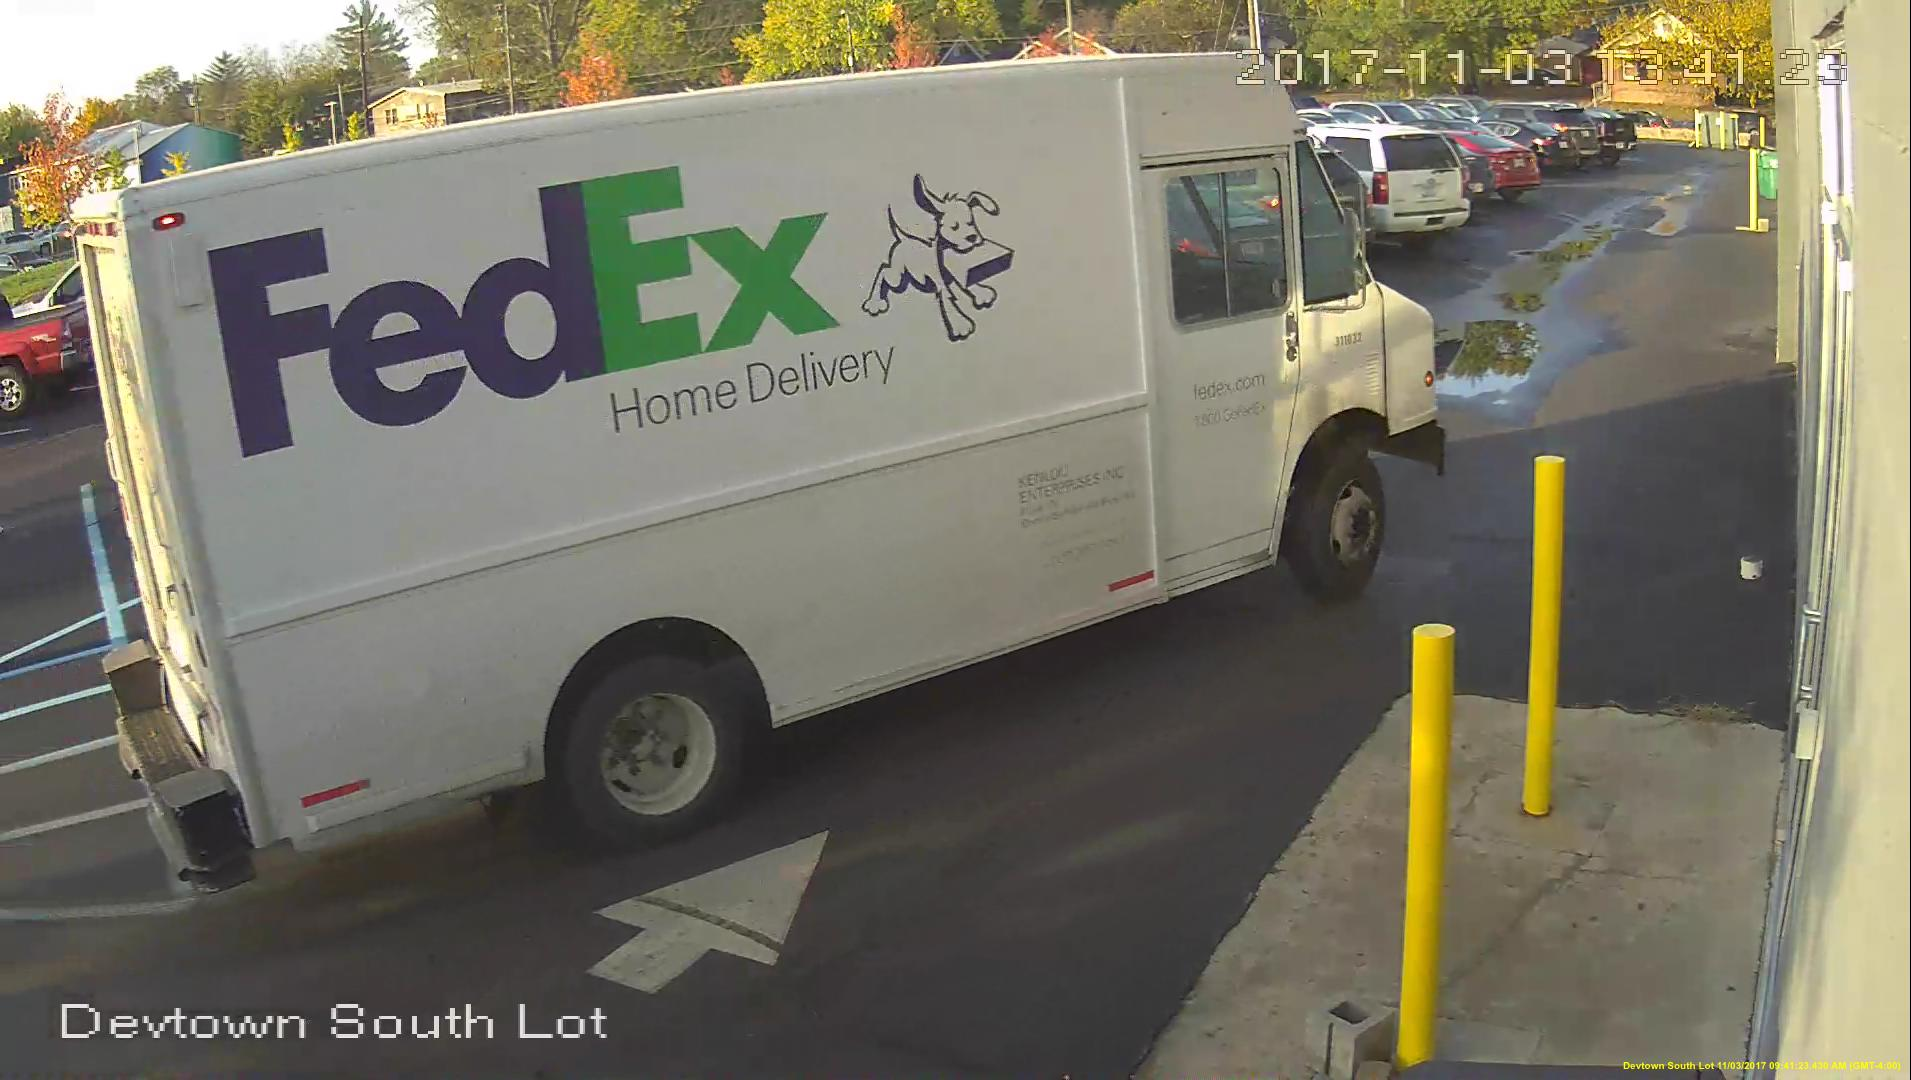fedex_truck: (84, 50, 1445, 911)
